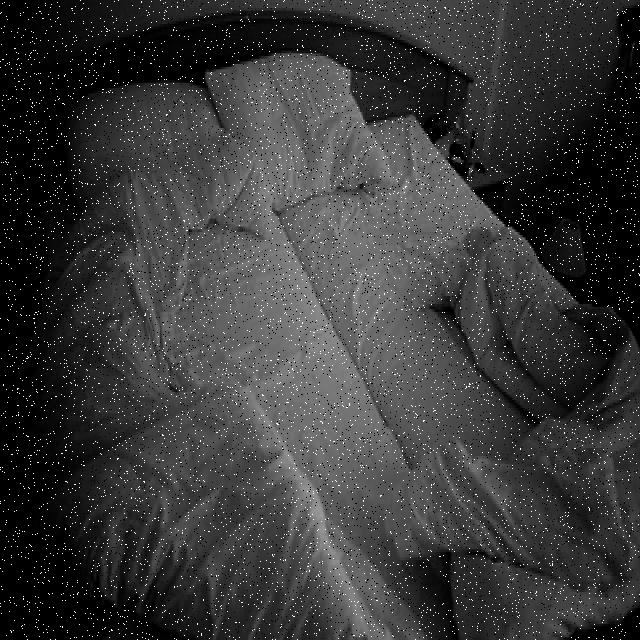bed: (15, 35, 640, 640)
